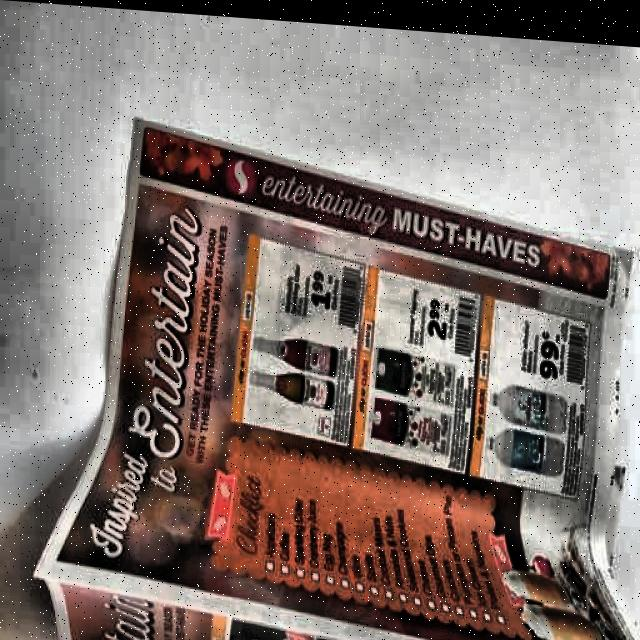paper: (31, 105, 640, 640)
